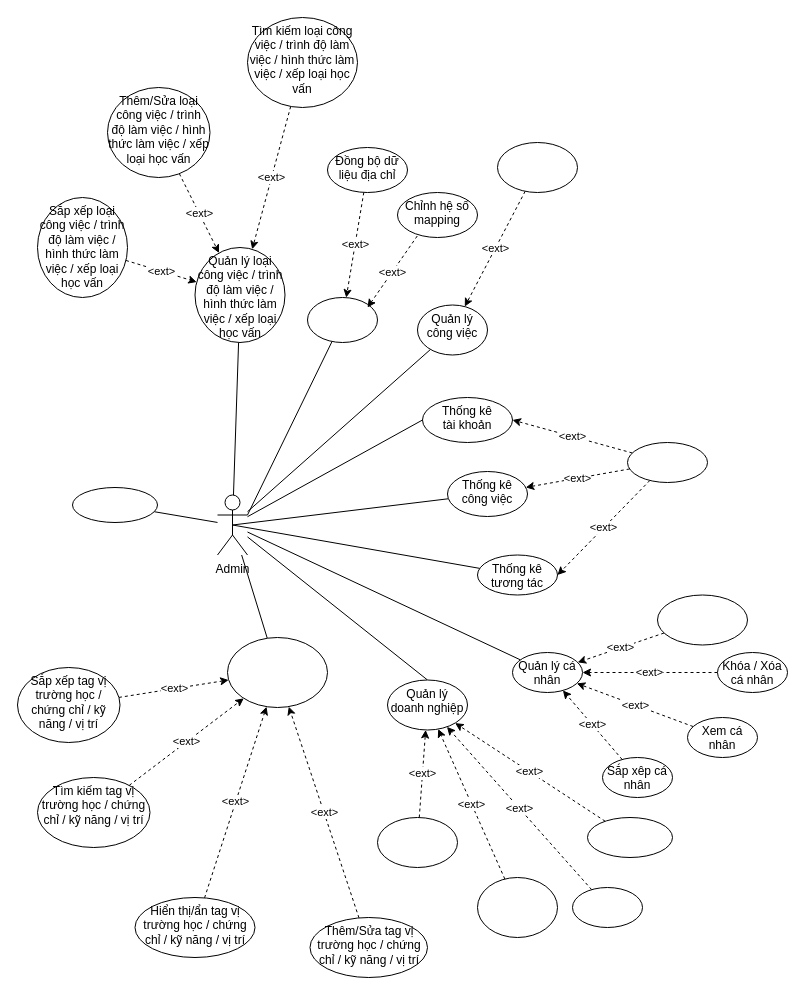
The diagram is 805 pixels wide and 995 high, and some of its shapes have lost their labels. Here are the shapes that lost their labels. From the top down, the centre of each, then its label:
point 537,167: Duyệt/Cấm công việc
point 342,319: Cấu hình chung
point 667,462: Nhóm/Lọc dữ liệu
point 115,504: Đăng nhập
point 702,619: Tìm kiếm cá nhân theo tên/mail
point 277,672: Quản lý tag vị trường học / chứng chỉ / kỹ năng / vị trí
point 417,842: Sắp xếp doanh nghiệp
point 629,837: Khóa/Xóa doanh nghiệp
point 517,907: Tìm kiếm doanh nghiệp theo mail/tên
point 607,907: Xem doanh nghiệp
